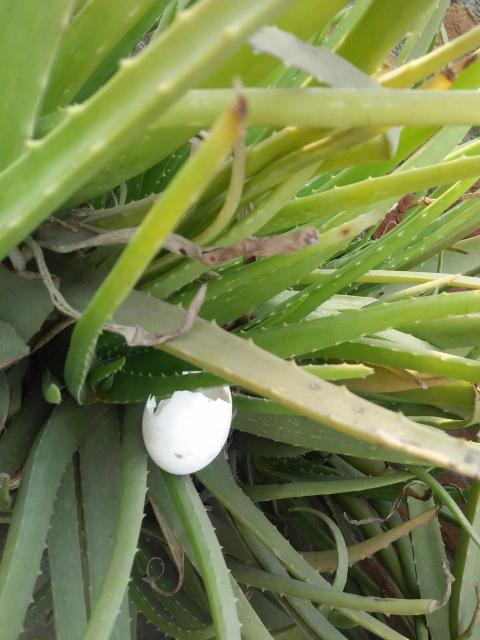Roto: (141, 384, 233, 476)
